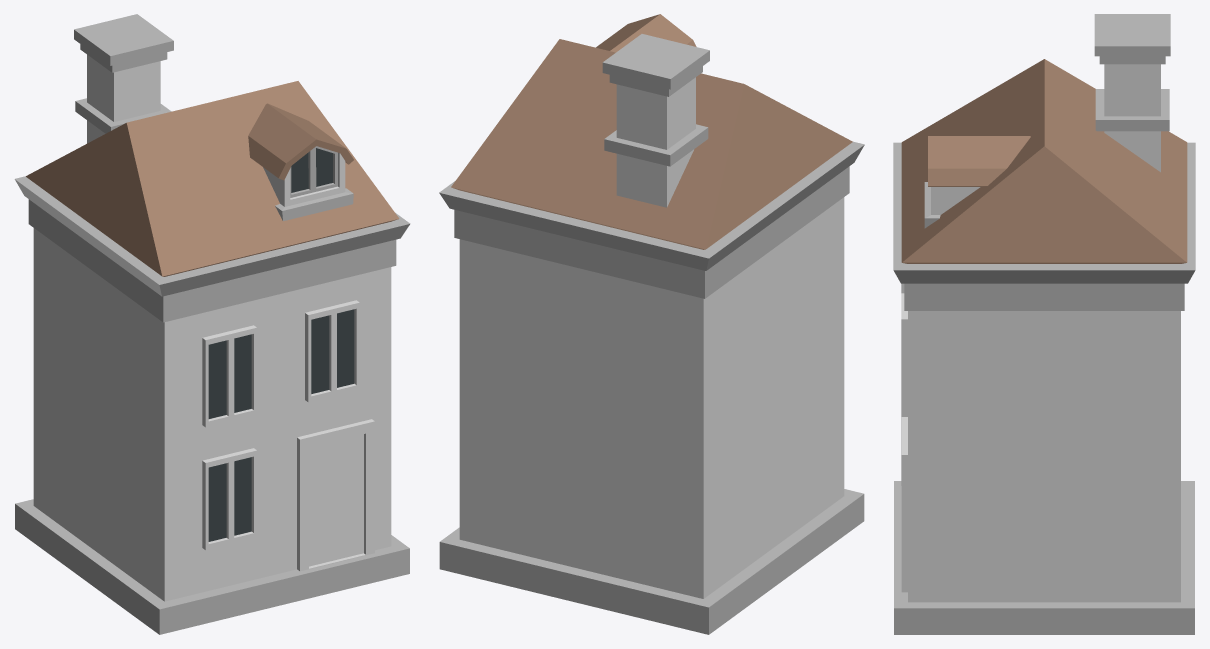
The model's file is House1Copy.fbx.
3 views of the same model, side by side, from view 1: azimuth 30°, elevation 25°; view 2: azimuth 150°, elevation 25°; view 3: azimuth 270°, elevation 25° (orthographic). The views are drawn at different scales.
Visible parts, largest first — view 1: HouseWalls, Cube, Chimney, RoofWindow, Cube.002, Cube.003, Cube.001; view 2: HouseWalls, Chimney, RoofWindow; view 3: HouseWalls, Chimney, RoofWindow, Cube, Cube.003.
Boxes of the visible parts, left/top/right/bottom form: HouseWalls: left=14, top=81, right=410, bottom=634; Cube: left=297, top=419, right=374, bottom=571; Chimney: left=74, top=14, right=173, bottom=143; RoofWindow: left=248, top=103, right=353, bottom=221; Cube.002: left=202, top=325, right=256, bottom=427; Cube.003: left=305, top=300, right=359, bottom=402; Cube.001: left=202, top=448, right=256, bottom=550; HouseWalls: left=439, top=39, right=864, bottom=634; Chimney: left=602, top=34, right=709, bottom=207; RoofWindow: left=596, top=14, right=696, bottom=52; HouseWalls: left=893, top=59, right=1195, bottom=634; Chimney: left=1094, top=14, right=1170, bottom=172; RoofWindow: left=924, top=136, right=1030, bottom=228; Cube: left=901, top=417, right=907, bottom=592; Cube.003: left=901, top=293, right=907, bottom=410.
Bounding box in the file's own units: 856 × 1618 × 856.
